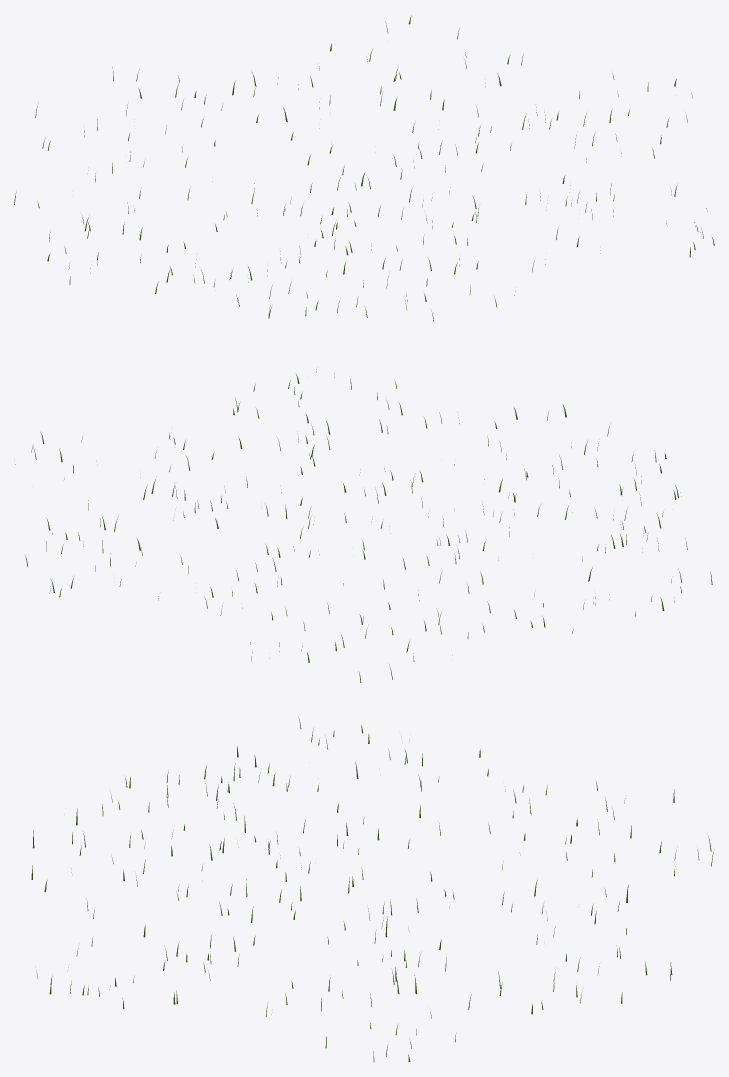
The picture shows the model from 3 angles, top to bottom: view 1: azimuth 30°, elevation 25°; view 2: azimuth 150°, elevation 25°; view 3: azimuth 270°, elevation 25°; orthographic projection. The views are drawn at different scales.
Parts seen in each view (by area): view 1: GrassPatch; view 2: GrassPatch; view 3: GrassPatch.
Boxes of the visible parts, x1=… form: GrassPatch: x1=14, y1=15, x2=714, y2=321; GrassPatch: x1=15, y1=369, x2=712, y2=682; GrassPatch: x1=31, y1=717, x2=713, y2=1061.
Size of the model in its own units: 19.17 by 0.4906 by 16.96.
